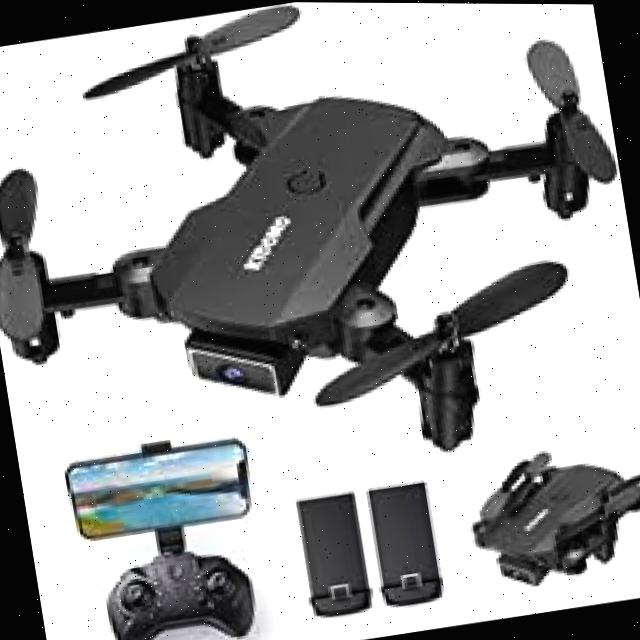drone: (0, 0, 640, 511)
